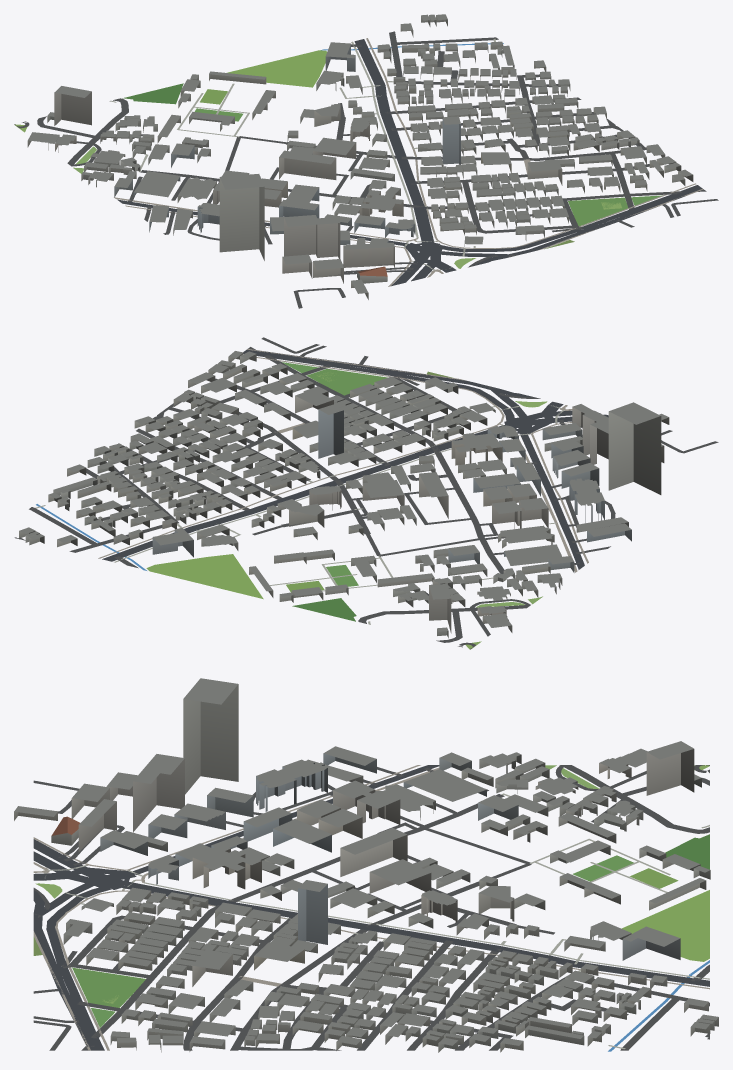
The picture shows the model from 3 angles, top to bottom: view 1: azimuth 30°, elevation 25°; view 2: azimuth 150°, elevation 25°; view 3: azimuth 270°, elevation 25°; orthographic projection. The views are drawn at different scales.
Visible parts, largest first — view 1: building, ground; view 2: building, ground; view 3: building, ground.
Part boxes in pixels (box(x1,y1,x2,y2)): building: box(27, 14, 693, 299); ground: box(14, 20, 718, 308); building: box(19, 351, 669, 638); ground: box(14, 337, 718, 649); building: box(14, 678, 718, 1052); ground: box(33, 765, 709, 1050).
Bounding box in the file's own units: 520 × 80 × 521.
